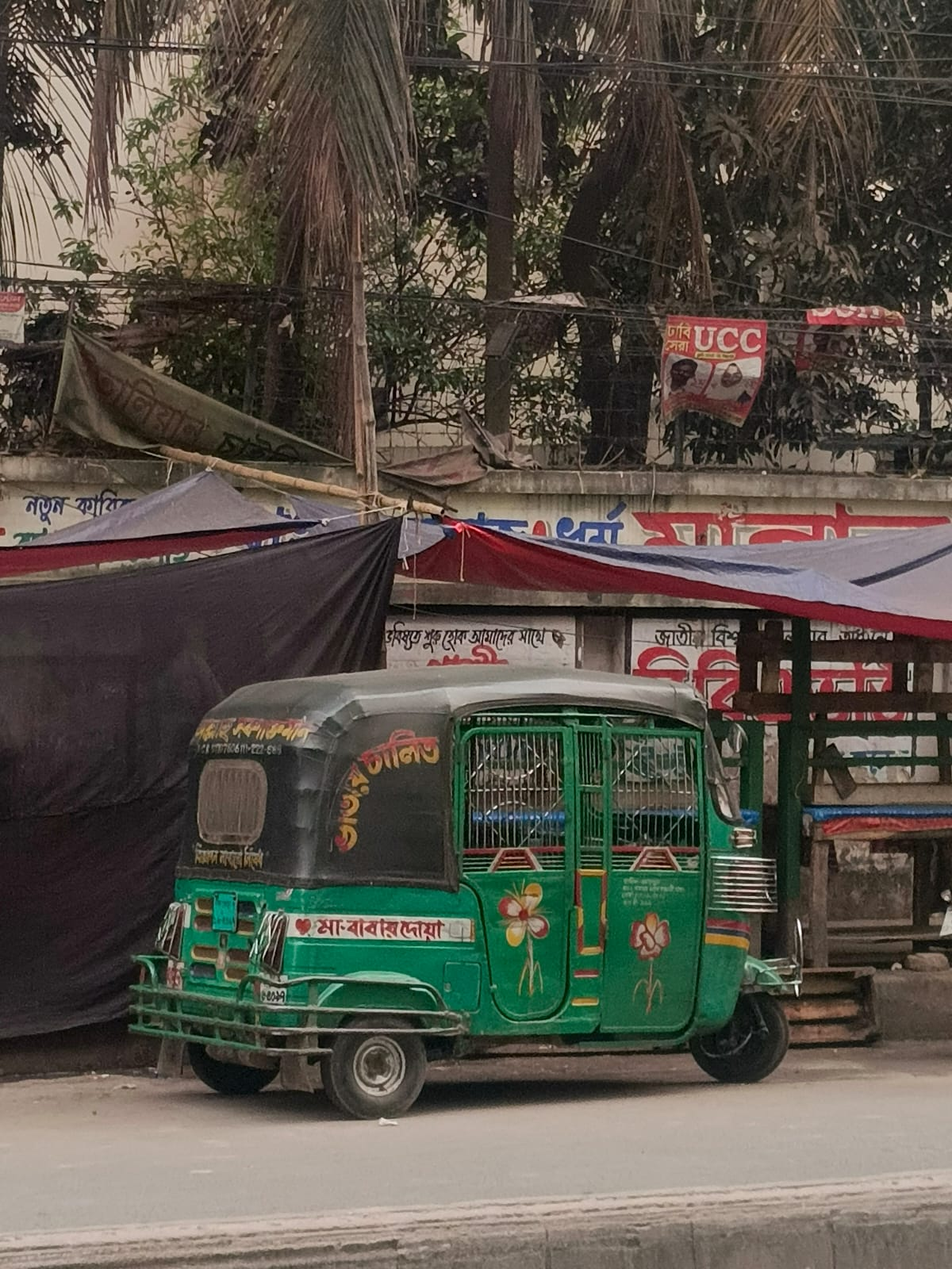cng: (138, 648, 922, 1139)
